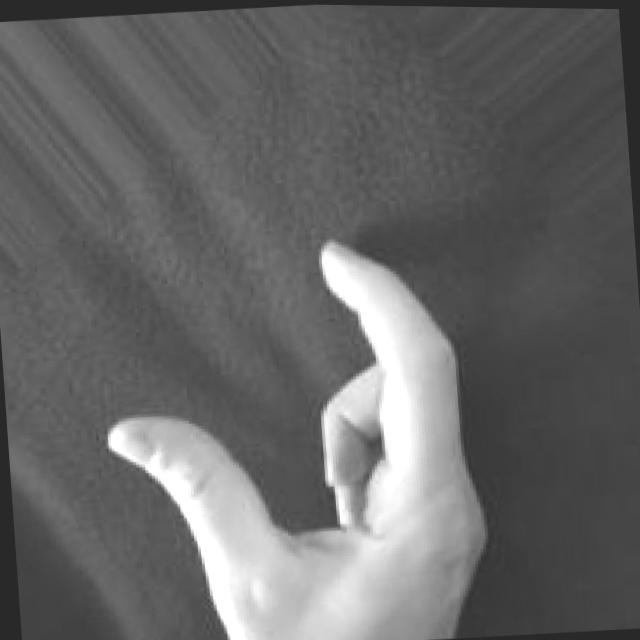U: (76, 216, 500, 640)
